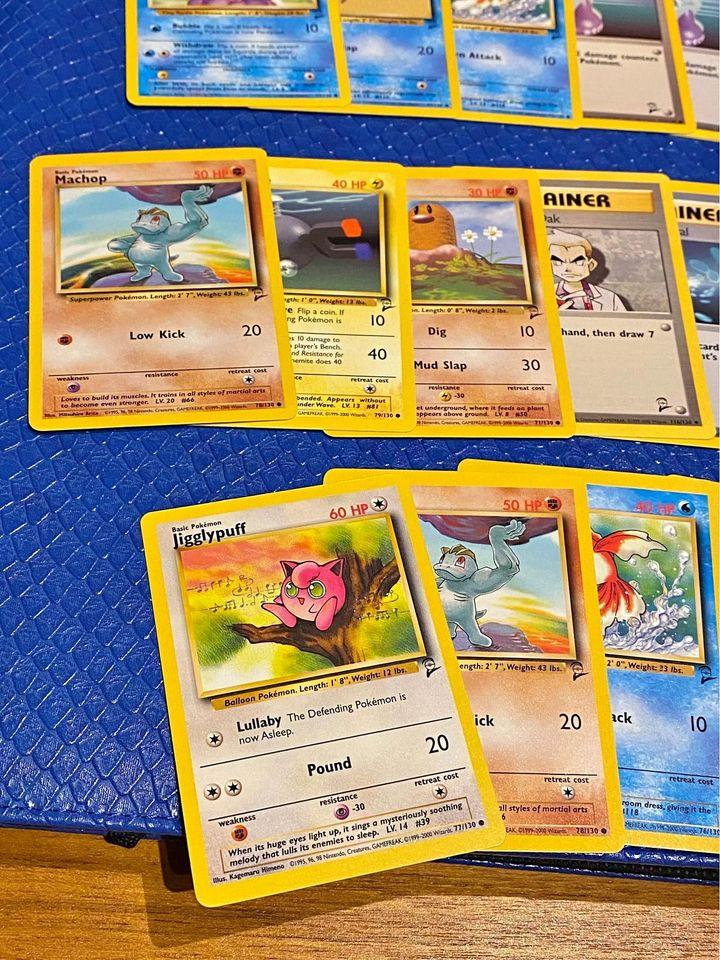card: (141, 474, 507, 908), (322, 466, 627, 855), (456, 457, 720, 855), (27, 145, 299, 433), (325, 167, 579, 440), (201, 155, 420, 432), (537, 168, 717, 440), (246, 0, 464, 119), (124, 0, 353, 108), (451, 0, 584, 129), (574, 0, 699, 134)
